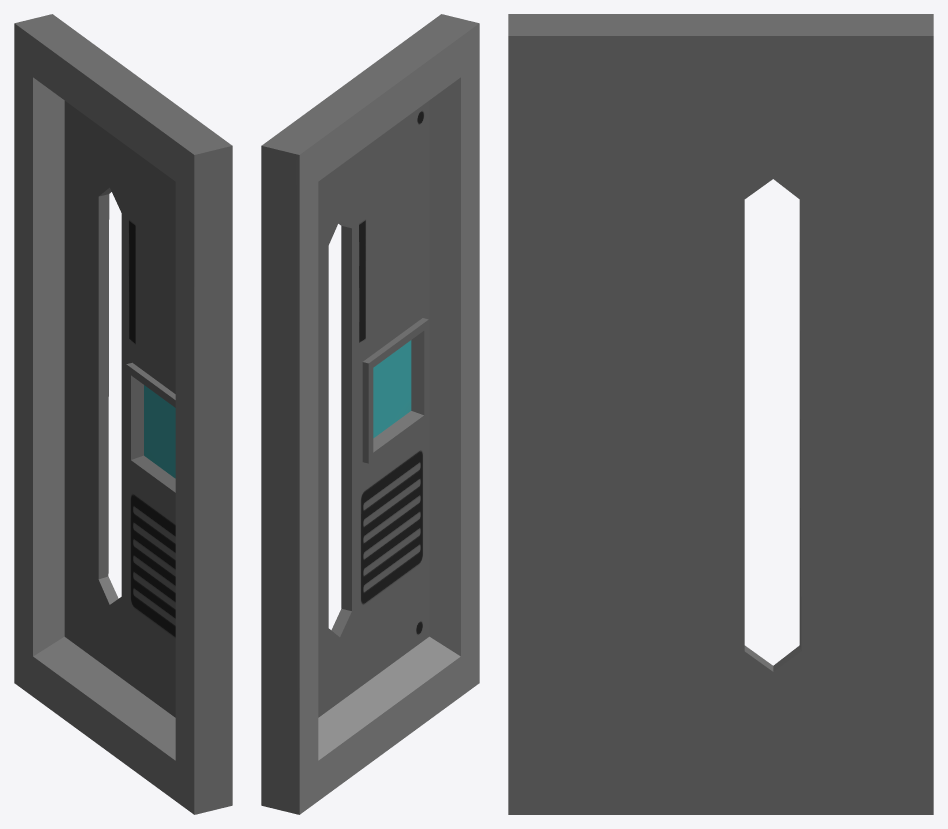
3 renders of one model, left to right at view 1: azimuth 30°, elevation 25°; view 2: azimuth 150°, elevation 25°; view 3: azimuth 270°, elevation 25°, orthographic. The views are drawn at different scales.
Visible parts, largest first — view 1: SM_B4_D_SM_B4_D; view 2: SM_B4_D_SM_B4_D; view 3: SM_B4_D_SM_B4_D.
Boxes of the visible parts, left/top/right/bottom form: SM_B4_D_SM_B4_D: left=14, top=14, right=232, bottom=814; SM_B4_D_SM_B4_D: left=261, top=14, right=479, bottom=814; SM_B4_D_SM_B4_D: left=508, top=14, right=933, bottom=814.
Size of the model in its own units: 14.82 by 121 by 245.
1 material, 1 textured.
